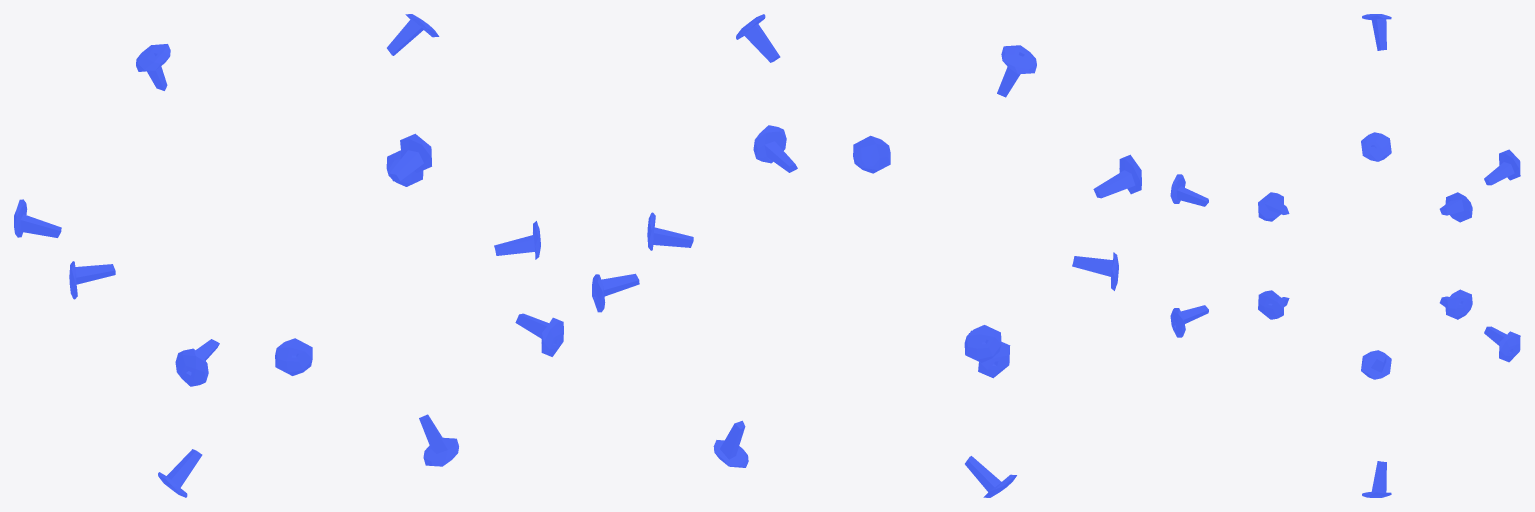
File: Hemaglutinina.fbx
3 views of the same model, side by side, from view 1: azimuth 30°, elevation 25°; view 2: azimuth 150°, elevation 25°; view 3: azimuth 270°, elevation 25° (orthographic). The views are drawn at different scales.
Visible parts, largest first — view 1: Hemagglutinin-esterase dimer (HE).001; view 2: Hemagglutinin-esterase dimer (HE).001; view 3: Hemagglutinin-esterase dimer (HE).001.
Part boxes in pixels (x1,y1,x2,y2): Hemagglutinin-esterase dimer (HE).001: (14,14,563,497); Hemagglutinin-esterase dimer (HE).001: (592,14,1141,497); Hemagglutinin-esterase dimer (HE).001: (1170,14,1520,497).
Size of the model in its own units: 15.26 by 17.26 by 14.34.
